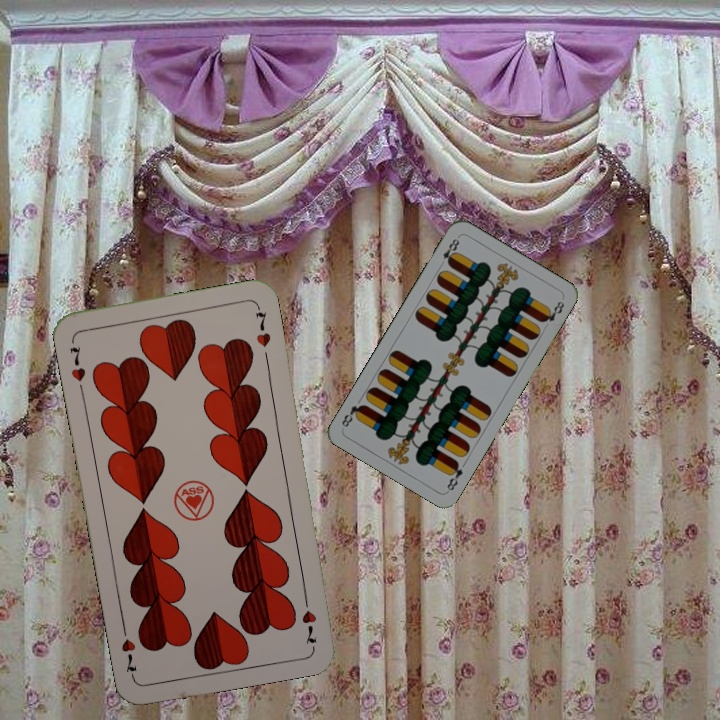E8: (438, 233, 462, 268), (443, 457, 466, 493)
H7: (65, 342, 88, 396), (299, 590, 320, 646)
